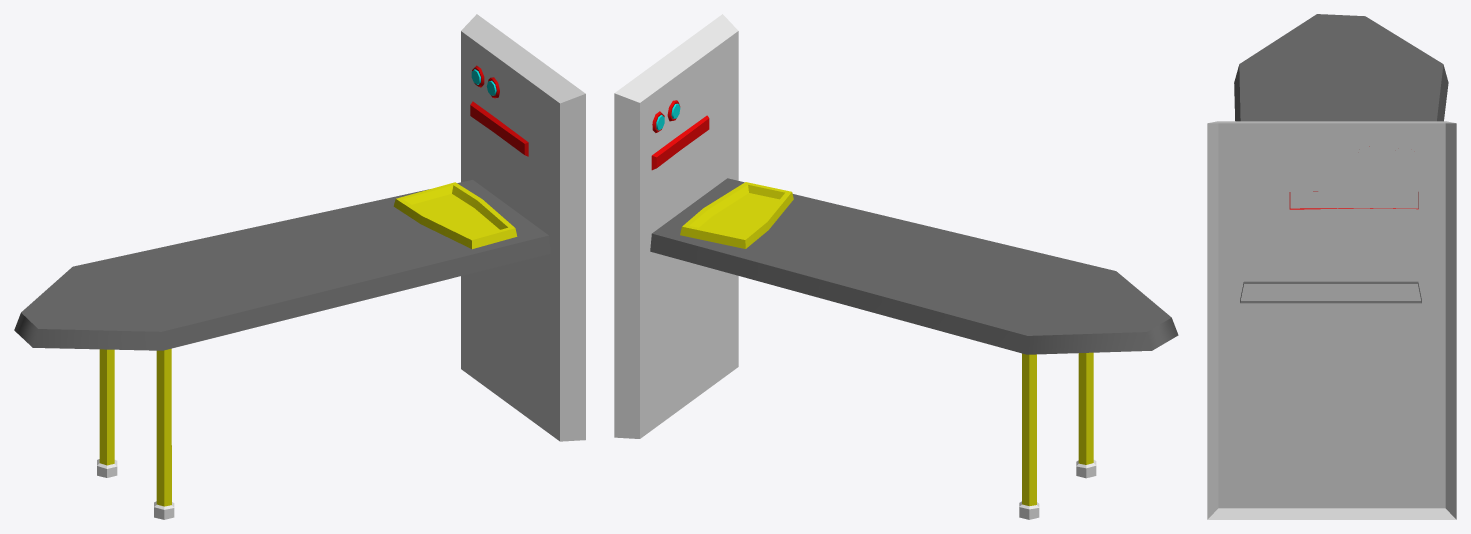
File: Laundry_IroningBoard.fbx
3 renders of one model, left to right at view 1: azimuth 30°, elevation 25°; view 2: azimuth 150°, elevation 25°; view 3: azimuth 270°, elevation 25°, orthographic. The views are drawn at different scales.
Visible parts, largest first — view 1: Laundry_IroningBoard; view 2: Laundry_IroningBoard; view 3: Laundry_IroningBoard.
Part boxes in pixels (bbox=[...]): Laundry_IroningBoard: bbox=[14, 14, 585, 519]; Laundry_IroningBoard: bbox=[614, 14, 1178, 519]; Laundry_IroningBoard: bbox=[1207, 14, 1456, 519].
Size of the model in its own units: 278 by 182 by 104.
